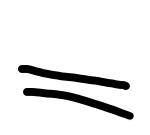eqv: (18, 65, 134, 120)
